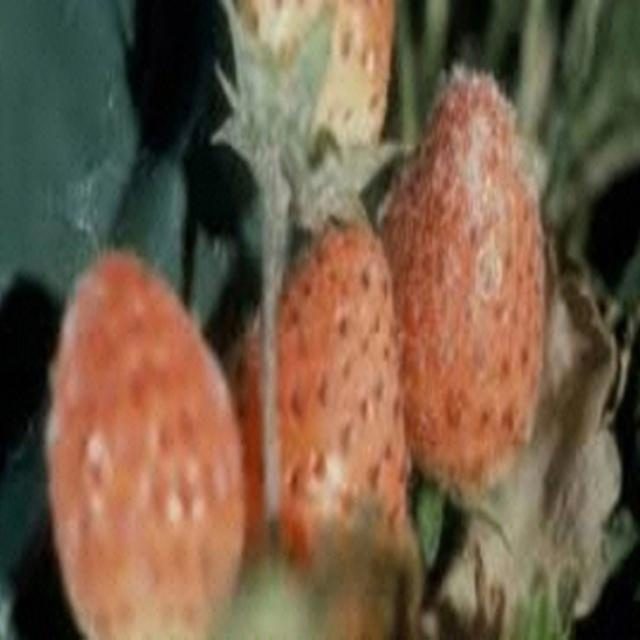Powdery Mildew Fruit: (42, 256, 248, 640), (217, 217, 417, 600), (375, 67, 548, 505)
